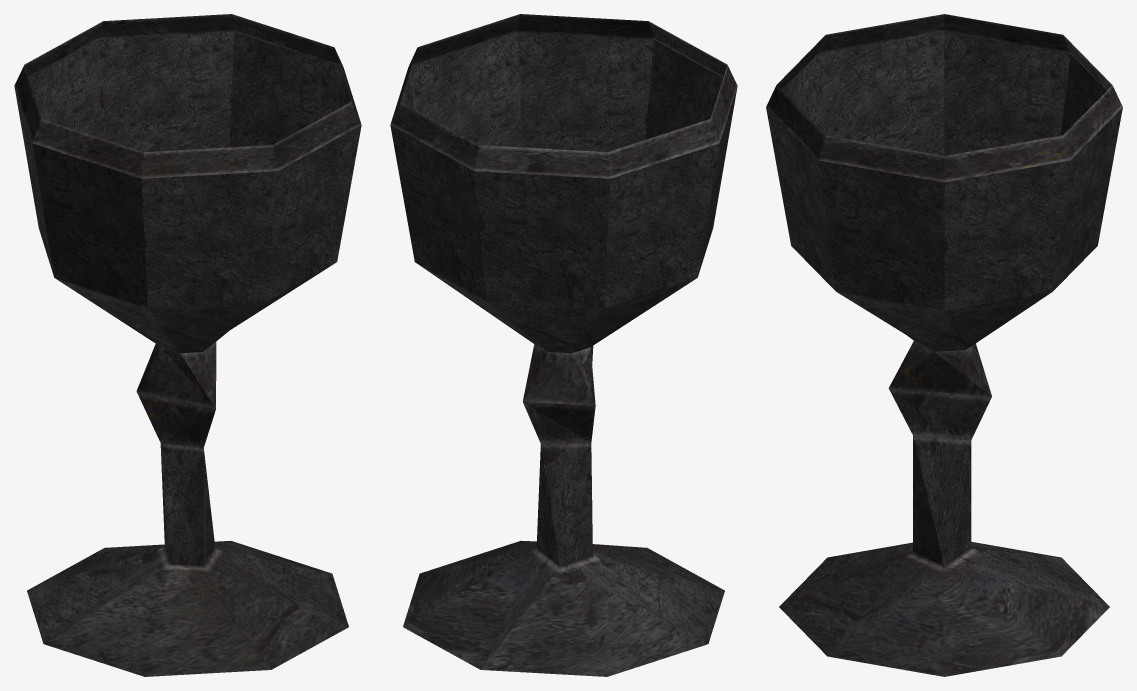
Rendered from tavern_cup_LOD.dae.
3 views of the same model, side by side, from view 1: azimuth 30°, elevation 25°; view 2: azimuth 150°, elevation 25°; view 3: azimuth 270°, elevation 25° (orthographic).
Visible parts, largest first — view 1: Default_Layer; view 2: Default_Layer; view 3: Default_Layer.
Part boxes in pixels (box(x1,y1,x2,y2)): Default_Layer: box(14, 14, 361, 676); Default_Layer: box(390, 14, 737, 676); Default_Layer: box(766, 14, 1122, 676).
Size of the model in its own units: 0.7576 by 1.22 by 0.7576.
